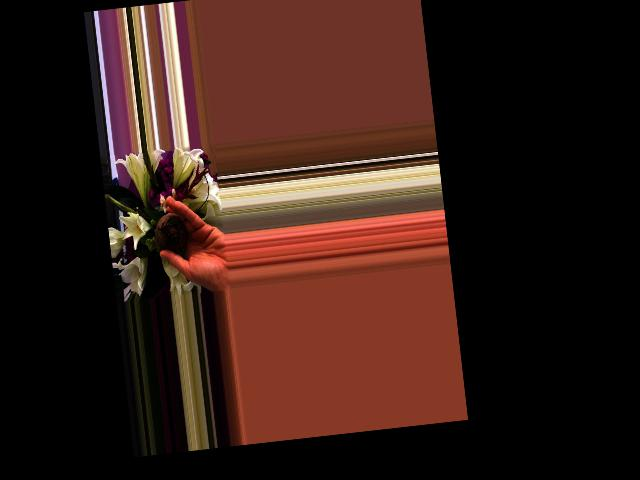beet: (153, 210, 189, 253)
